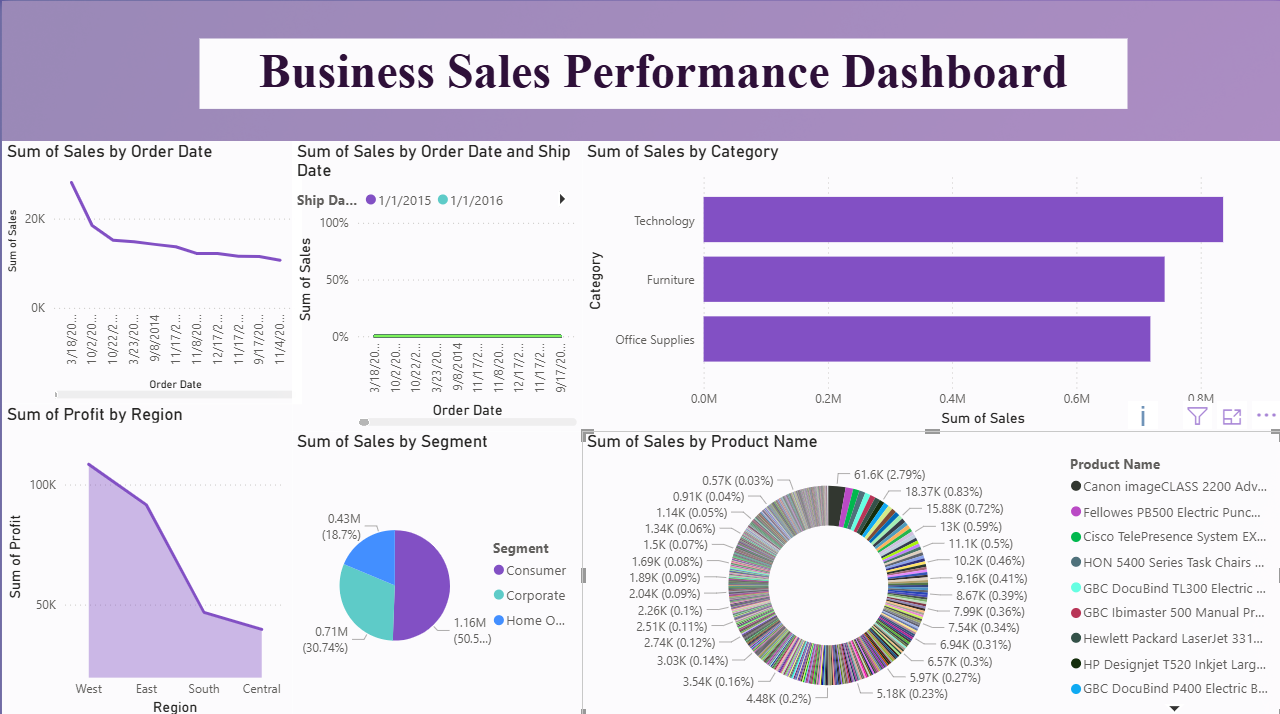

The dashboard page shown, as its layout file describes it:
{"tool":"powerbi","page":{"name":"Page 1","canvas":[1280,720],"ordinal":0},"visuals":[{"type":"lineChart","fields":{"Category":["Sample - Superstore.Order Date"],"Y":["Sum(Sample - Superstore.Sales)"]},"box":[0,140,300,262.9],"z":0},{"type":"barChart","fields":{"Category":["Sample - Superstore.Category"],"Y":["Sum(Sample - Superstore.Sales)"]},"box":[580,140,700,290],"z":1},{"type":"stackedAreaChart","fields":{"Category":["Sample - Superstore.Region"],"Y":["Sum(Sample - Superstore.Profit)"]},"box":[0,402.9,290,317.1],"z":2},{"type":"hundredPercentStackedAreaChart","fields":{"Category":["Sample - Superstore.Order Date"],"Series":["Sample - Superstore.Ship Date"],"Y":["Sum(Sample - Superstore.Sales)"]},"box":[290,140,290,290],"z":3},{"type":"pieChart","fields":{"Category":["Sample - Superstore.Segment","Sample - Superstore.Product ID"],"Y":["Sum(Sample - Superstore.Sales)"]},"box":[290,430,290,290],"z":4},{"type":"donutChart","fields":{"Y":["Sum(Sample - Superstore.Sales)"],"Category":["Sample - Superstore.Product Name"]},"box":[580,430,700,290],"z":6},{"type":"textbox","box":[198,38,928,70],"z":7}]}

Visuals, with their boxes in screenshot pixels (x1, y1, x2, y2), scaled from the page's 1280x720 canvas onto the 1280x714 screenshot:
lineChart - Sample - Superstore.Order Date x Sum(Sample - Superstore.Sales): [x1=0, y1=139, x2=300, y2=400]
barChart - Sample - Superstore.Category x Sum(Sample - Superstore.Sales): [x1=580, y1=139, x2=1279, y2=426]
stackedAreaChart - Sample - Superstore.Region x Sum(Sample - Superstore.Profit): [x1=0, y1=400, x2=290, y2=713]
hundredPercentStackedAreaChart - Sample - Superstore.Order Date x Sample - Superstore.Ship Date: [x1=290, y1=139, x2=580, y2=426]
pieChart - Sample - Superstore.Segment x Sample - Superstore.Product ID: [x1=290, y1=426, x2=580, y2=713]
donutChart - Sum(Sample - Superstore.Sales) x Sample - Superstore.Product Name: [x1=580, y1=426, x2=1279, y2=713]
textbox: [x1=198, y1=38, x2=1126, y2=107]
